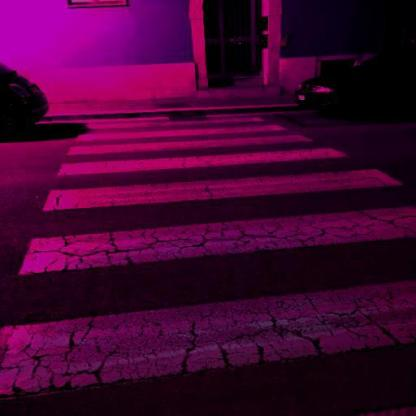crosswalk: (40, 144, 408, 216)
